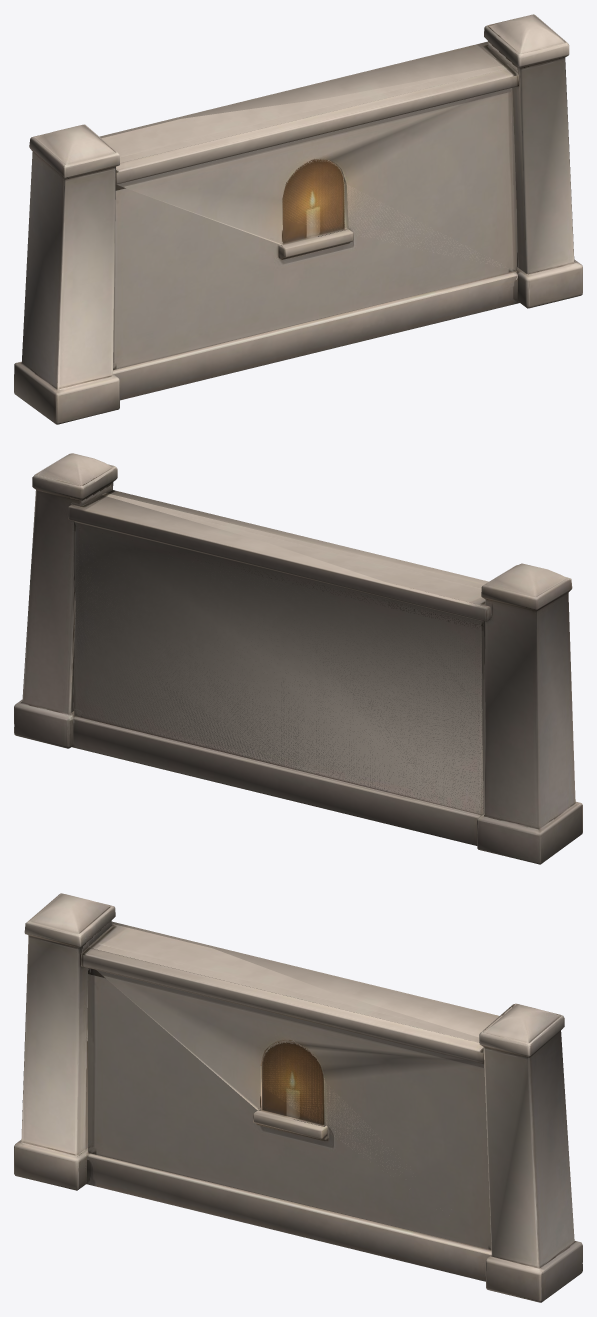
The model's file is act1_extras_v1_hospice_wall_niche.glb.
The picture shows the model from 3 angles, top to bottom: view 1: azimuth 30°, elevation 25°; view 2: azimuth 150°, elevation 25°; view 3: azimuth 330°, elevation 25°; orthographic projection.
Visible parts, largest first — view 1: A18_5_hospice_wall_niche; view 2: A18_5_hospice_wall_niche; view 3: A18_5_hospice_wall_niche.
Boxes of the visible parts, left/top/right/bottom form: A18_5_hospice_wall_niche: left=14, top=14, right=582, bottom=424; A18_5_hospice_wall_niche: left=14, top=453, right=582, bottom=864; A18_5_hospice_wall_niche: left=14, top=893, right=582, bottom=1302.
Bounding box in the file's own units: 0.999 × 0.4907 × 0.1421.
Materials: 1 (1 with a texture image).
